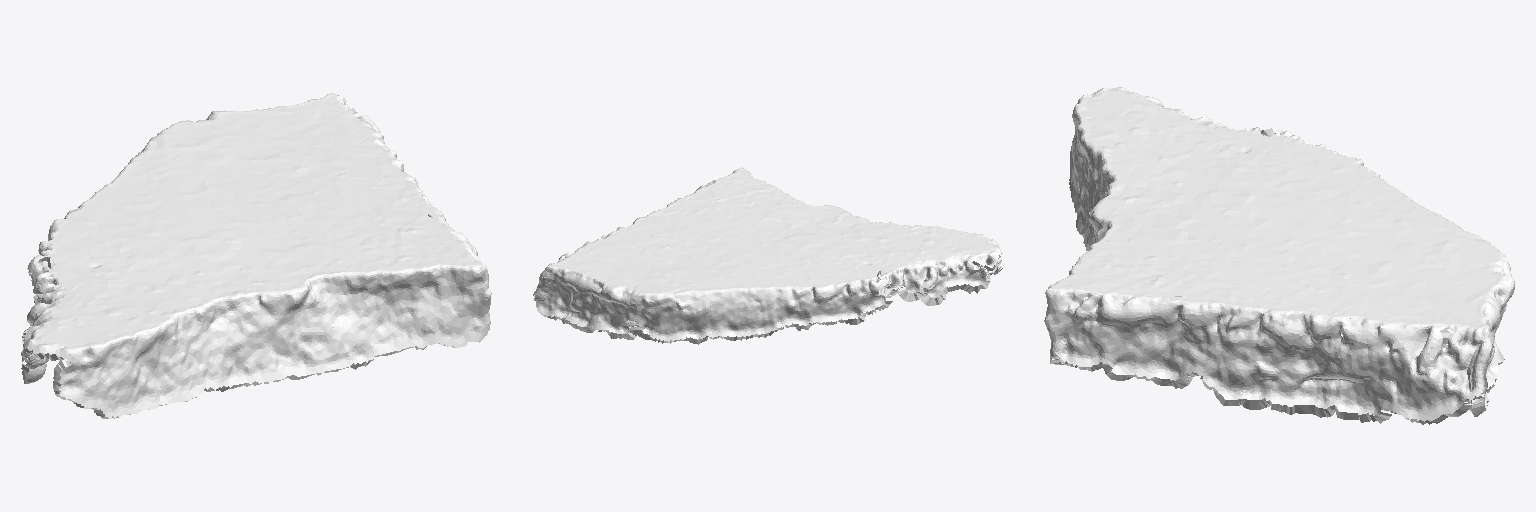
robot.urdf — frag5_top_calib_scaled:
<?xml version="1.0"?>
<robot name="frag5_top_calib_scaled">
  <material name="Blanc">
    <color rgba="1.0 1.0 1.0 1.0"/>
  </material>
  <link name="base_link">
    <visual>
      <origin xyz="0 0 0" rpy="0 0 0"/>
      <geometry>
        <mesh filename="frag5_small.stl"/>
      </geometry>
      <material name="Blanc"/>
    </visual>
    <collision>
      <origin xyz="0 0 0" rpy="0 0 0"/>
      <geometry>
	 	     <mesh filename="frag5_small.stl"/>
      </geometry>
    </collision>
    <contact>
      <lateral_friction value="2.0"/>
      <rolling_friction value="0.0001"/>
      <inertia_scaling value="3.0"/>
    </contact>
    <inertial>
      <origin rpy="0 0 0" xyz="0 0 0"/>
       <mass value="0.05"/>
       <inertia ixx="1" ixy="0" ixz="0" iyy="1" iyz="0" izz="1"/>
    </inertial>
  </link>

</robot>

--- What the picture shows (computed from the rendered views, not written in the file) ---
3 views of the same robot in one strip: view 1: azimuth 30°, elevation 25°; view 2: azimuth 150°, elevation 25°; view 3: azimuth 270°, elevation 25° (orthographic).
Model frag5_top_calib_scaled with 1 links and 0 joints (none), rooted at base_link, posed every joint at zero.
Visible links, largest first — view 1: base_link; view 2: base_link; view 3: base_link.
Boxes of the visible links, left/top/right/bottom form: base_link: left=21, top=93, right=491, bottom=418; base_link: left=533, top=167, right=1002, bottom=344; base_link: left=1044, top=87, right=1514, bottom=424.
Size in the robot's own frame: 0.1321 by 0.1032 by 0.027 metres.
Meshes: 1 distinct files referenced, 1 mesh visuals loaded (1 binary STL).
